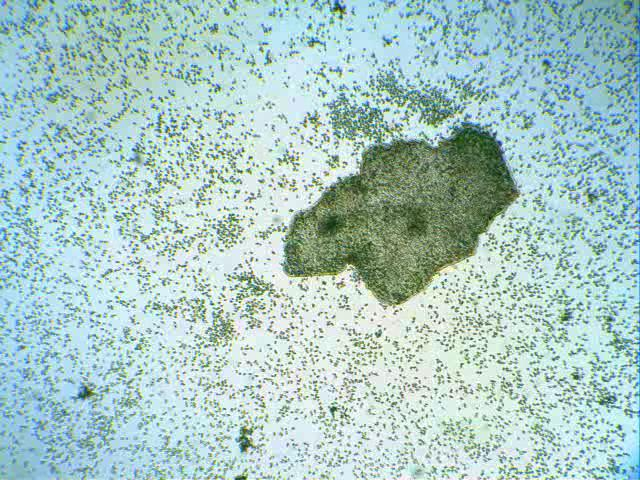Placozoan: (282, 128, 518, 306)
